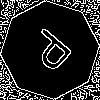P: (25, 25, 82, 81)
